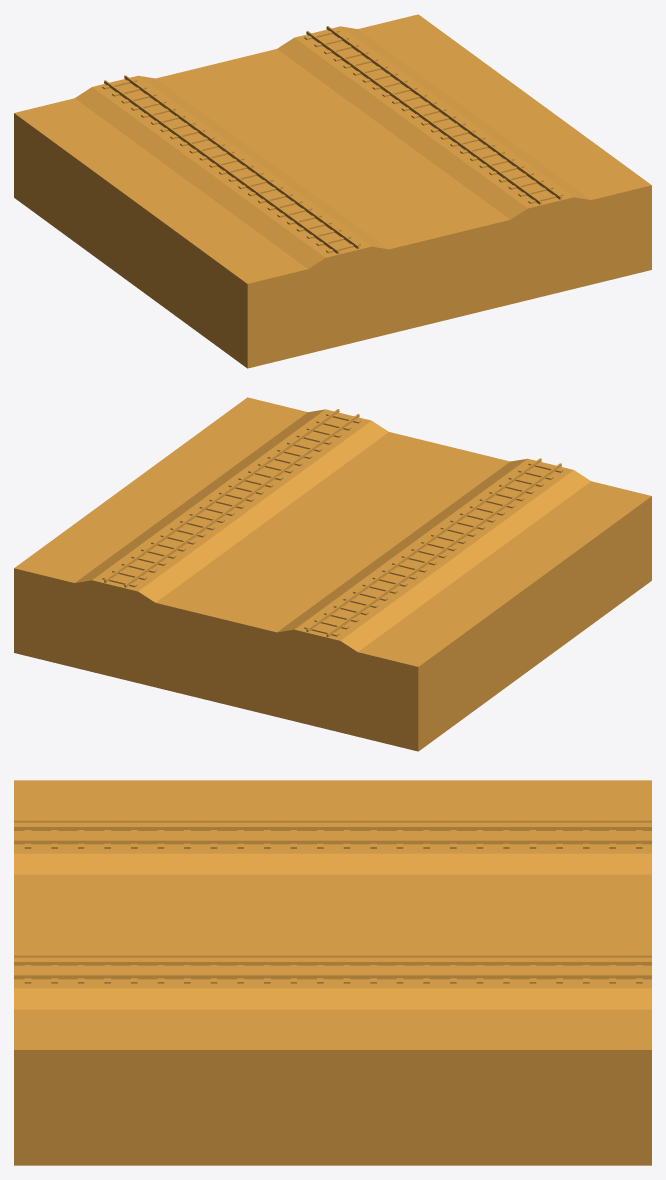
File: tile-rail-straight-double.glb
3 views of the same model, one above another, from view 1: azimuth 30°, elevation 25°; view 2: azimuth 150°, elevation 25°; view 3: azimuth 270°, elevation 25° (orthographic). The views are drawn at different scales.
Parts seen in each view (by area): view 1: tile-rail-straight-double; view 2: tile-rail-straight-double; view 3: tile-rail-straight-double.
Part boxes in pixels (<box>): tile-rail-straight-double: <box>14,14,651,368</box>; tile-rail-straight-double: <box>14,397,651,751</box>; tile-rail-straight-double: <box>14,780,651,1165</box>.
Size of the model in its own units: 30 by 6.75 by 30.
